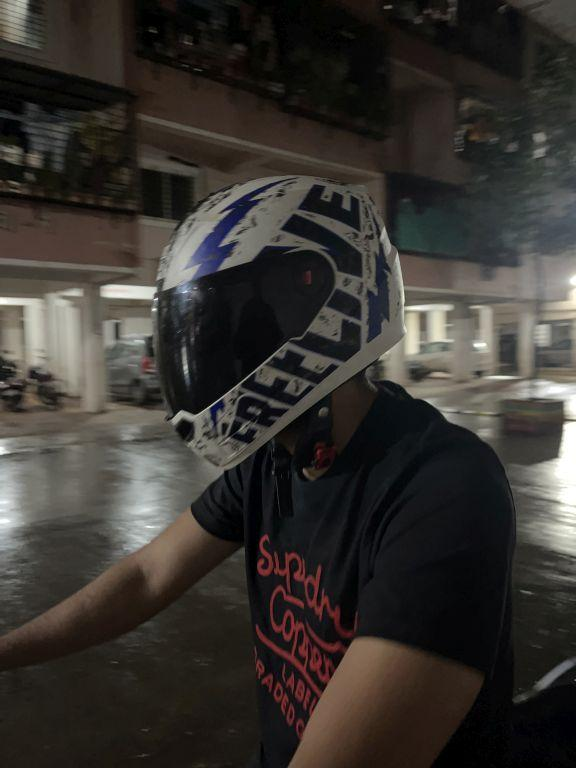helmet: (139, 157, 417, 481)
